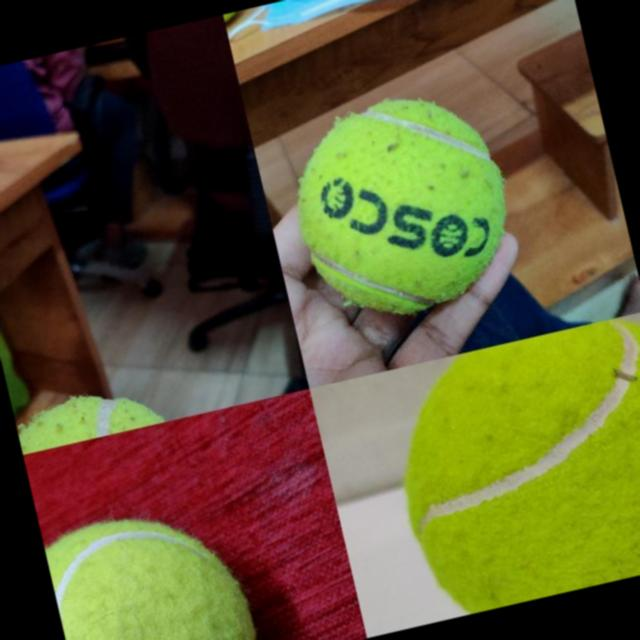tennis-ball: (372, 311, 640, 622), (276, 75, 528, 332), (41, 491, 263, 640)
